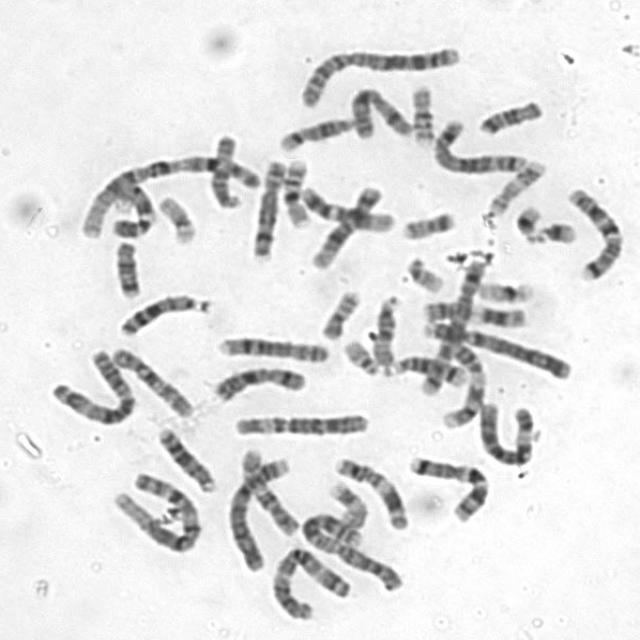A1: (71, 145, 261, 240), (105, 463, 203, 555)
A2: (291, 38, 464, 108), (294, 504, 406, 594)
A3: (42, 340, 138, 428), (264, 539, 354, 621)
B4: (415, 315, 575, 381), (218, 449, 294, 572)
B5: (411, 251, 490, 395), (425, 112, 530, 174)
C10: (102, 339, 197, 420), (233, 440, 302, 538)
C11: (326, 450, 410, 530), (415, 293, 530, 329)
C12: (303, 178, 384, 270), (295, 179, 397, 234)
C6: (225, 404, 372, 438), (472, 394, 537, 467)
C7: (401, 448, 494, 524), (560, 180, 627, 282)
C8: (244, 152, 289, 261), (210, 328, 333, 364)
C9: (432, 334, 489, 431), (105, 173, 157, 239)
D13: (111, 285, 214, 338), (150, 419, 219, 494)
D14: (270, 108, 360, 153), (377, 349, 470, 387)
D15: (203, 126, 243, 210), (366, 287, 403, 368)
E16: (276, 150, 314, 229), (404, 78, 436, 147)
E17: (479, 152, 549, 216), (321, 473, 370, 529)
E18: (471, 91, 546, 136), (106, 233, 144, 299)
F19: (152, 188, 199, 246), (471, 273, 536, 305)
F20: (313, 281, 364, 341), (394, 203, 459, 241)
G21: (523, 212, 579, 246), (508, 197, 546, 243)
G22: (399, 249, 445, 294), (335, 332, 382, 376)
X: (206, 358, 310, 404), (344, 80, 416, 140)
